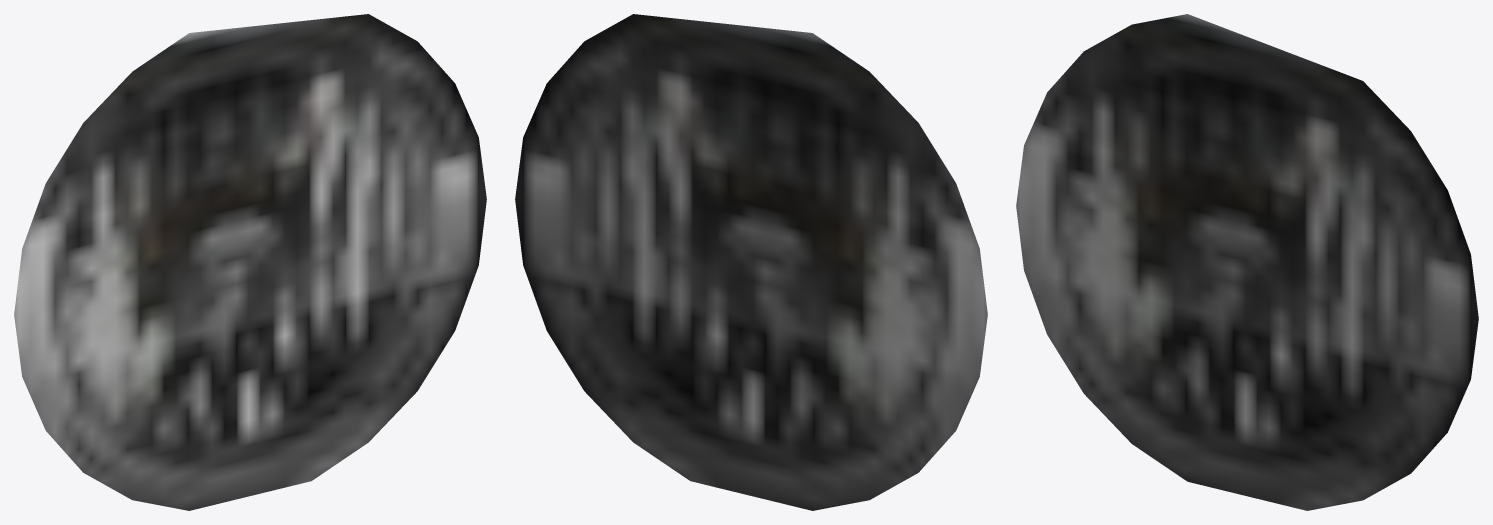
The model's file is left_front_light.fbx.
The picture shows the model from 3 angles, left to right: view 1: azimuth 30°, elevation 25°; view 2: azimuth 150°, elevation 25°; view 3: azimuth 330°, elevation 25°; orthographic projection. The views are drawn at different scales.
Parts seen in each view (by area): view 1: Jeep_Renegade_2016.003; view 2: Jeep_Renegade_2016.003; view 3: Jeep_Renegade_2016.003.
Boxes of the visible parts, box(x1,y1,x2,y2) form: Jeep_Renegade_2016.003: box(14, 14, 486, 510); Jeep_Renegade_2016.003: box(515, 14, 987, 510); Jeep_Renegade_2016.003: box(1016, 14, 1478, 510).
Bounding box in the file's own units: 21.27 × 20.55 × 3.35e-06.
